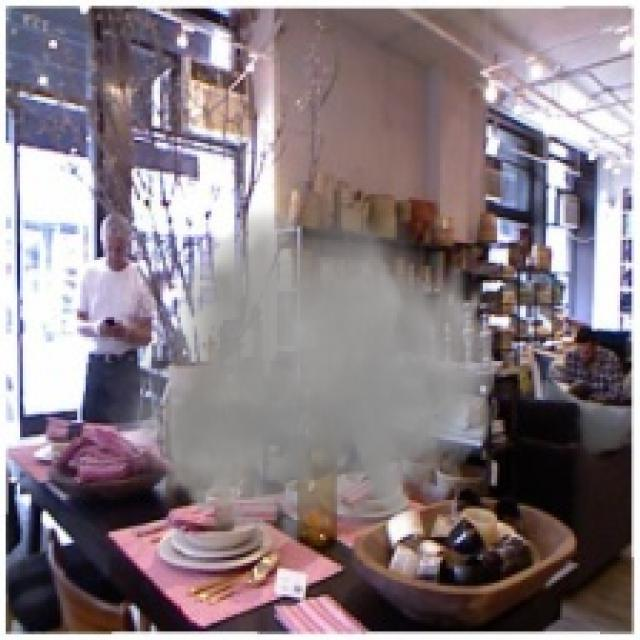smoke: (97, 160, 506, 569)
